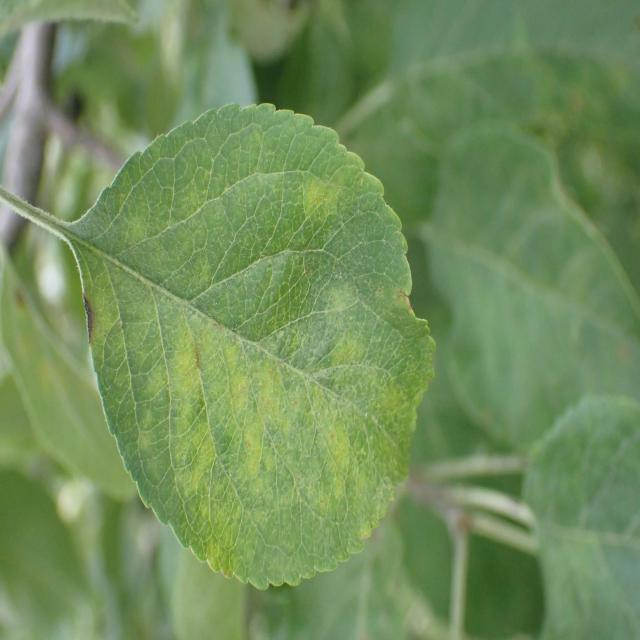scab: (72, 165, 431, 570)
